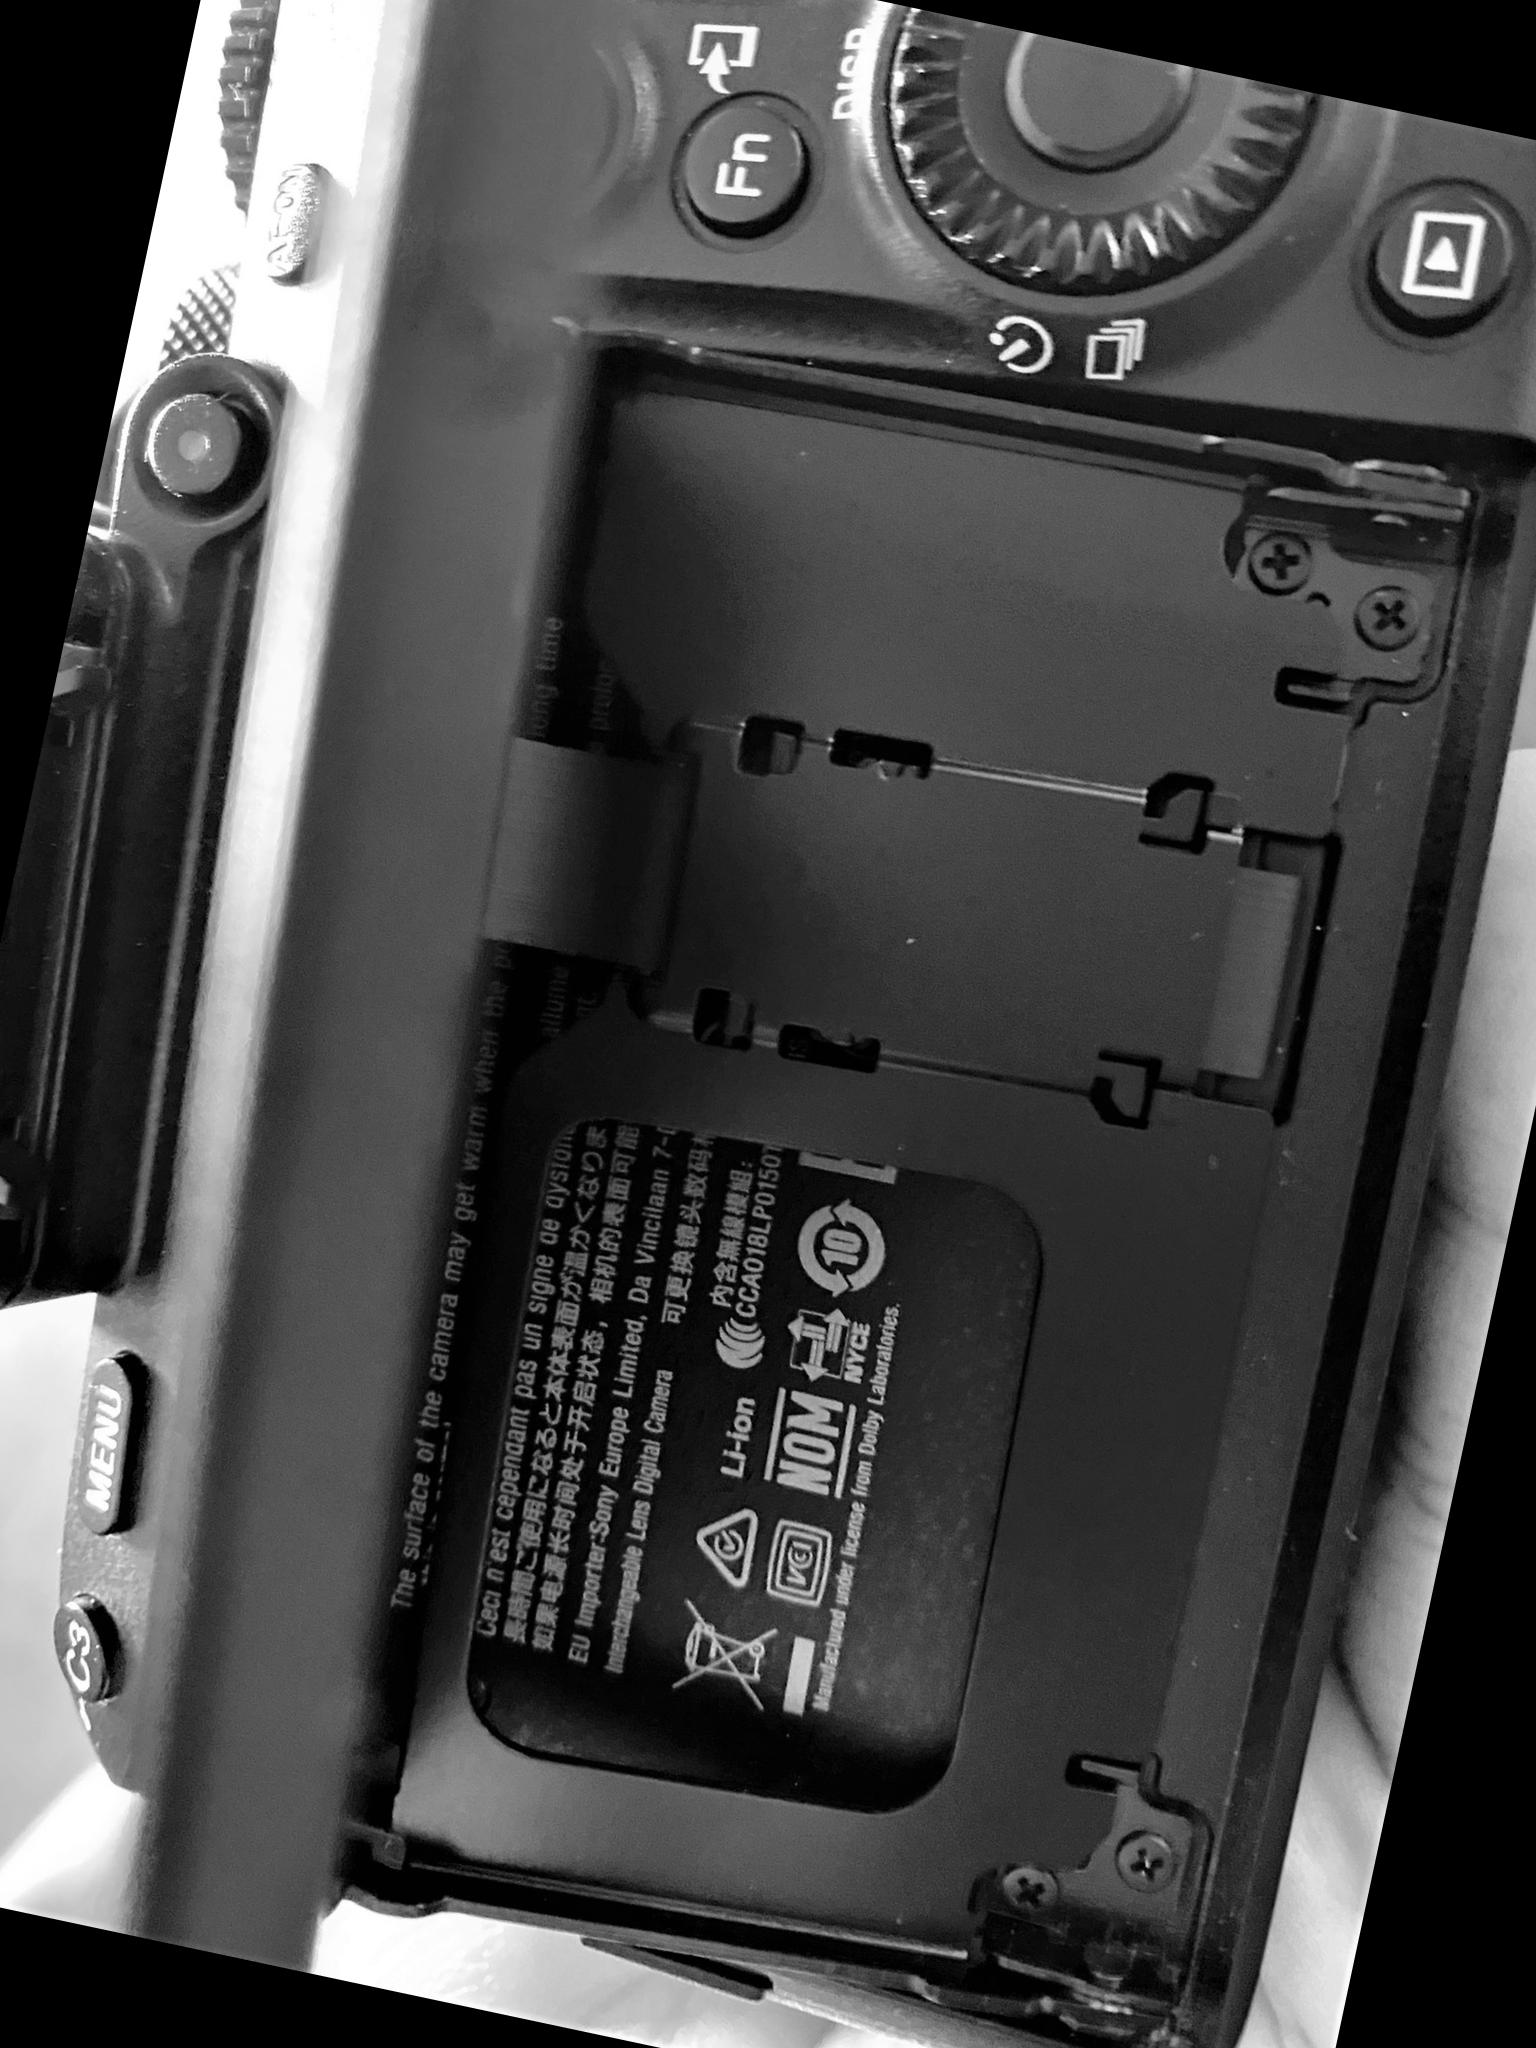PH: (1346, 576, 1434, 660), (1239, 521, 1320, 598), (1110, 1825, 1187, 1901), (991, 1858, 1065, 1925)
